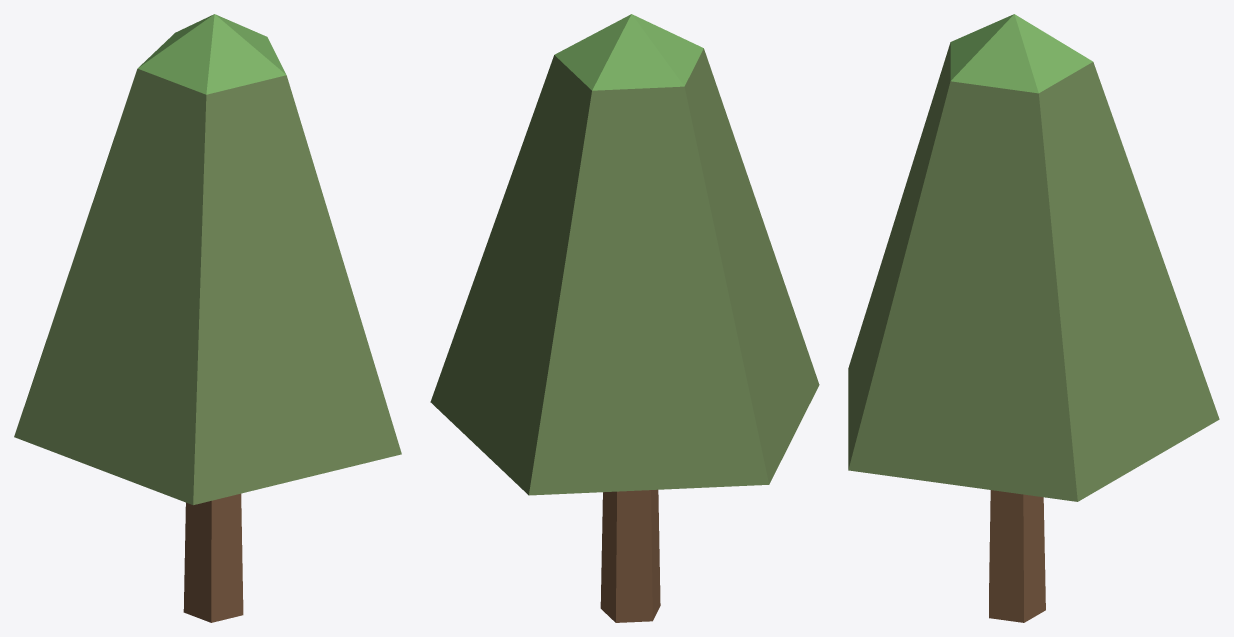
File: prop_tree_birch.glb
3 views of the same model, side by side, from view 1: azimuth 30°, elevation 25°; view 2: azimuth 150°, elevation 25°; view 3: azimuth 270°, elevation 25° (orthographic).
Visible parts, largest first — view 1: prop_tree_birch; view 2: prop_tree_birch; view 3: prop_tree_birch.
Boxes of the visible parts, x1=… form: prop_tree_birch: x1=14, y1=14, x2=401, y2=622; prop_tree_birch: x1=430, y1=14, x2=819, y2=622; prop_tree_birch: x1=848, y1=14, x2=1219, y2=622.
Bounding box in the file's own units: 1.48 × 2.5 × 1.41.
Materials: 1 (1 with a texture image).
